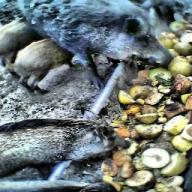boar: (0, 113, 130, 184)
